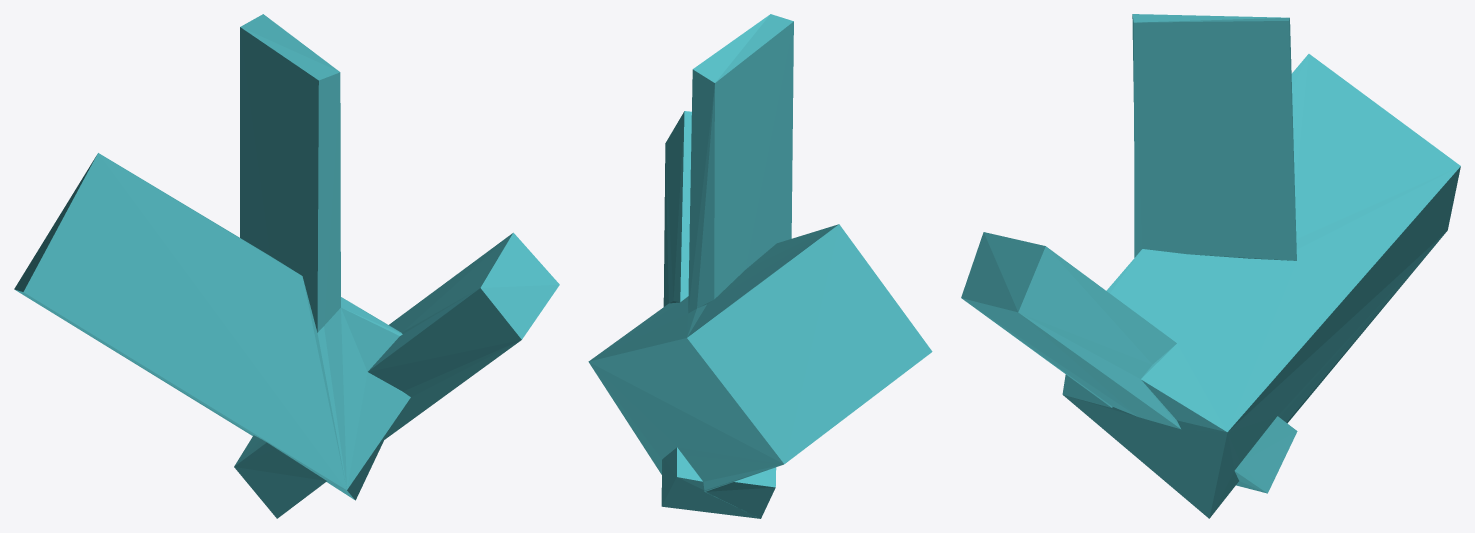
3 views of the same model, side by side, from view 1: azimuth 30°, elevation 25°; view 2: azimuth 150°, elevation 25°; view 3: azimuth 270°, elevation 25° (orthographic).
Parts seen in each view (by area): view 1: 980_Cube.3955; view 2: 980_Cube.3955; view 3: 980_Cube.3955.
Boxes of the visible parts, box(x1,y1,x2,y2) form: 980_Cube.3955: box(14, 14, 559, 518); 980_Cube.3955: box(588, 14, 932, 518); 980_Cube.3955: box(961, 14, 1460, 518).
Bounding box in the file's own units: 14.31 × 16.07 × 15.42.
